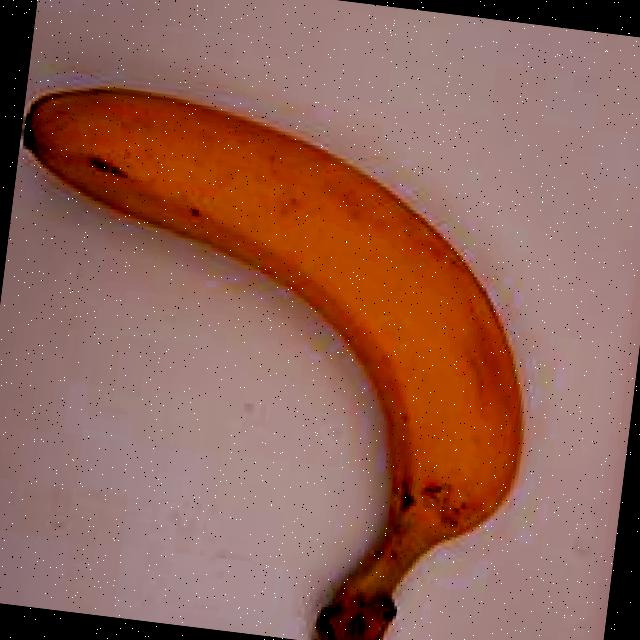Ripe: (0, 30, 593, 640)
